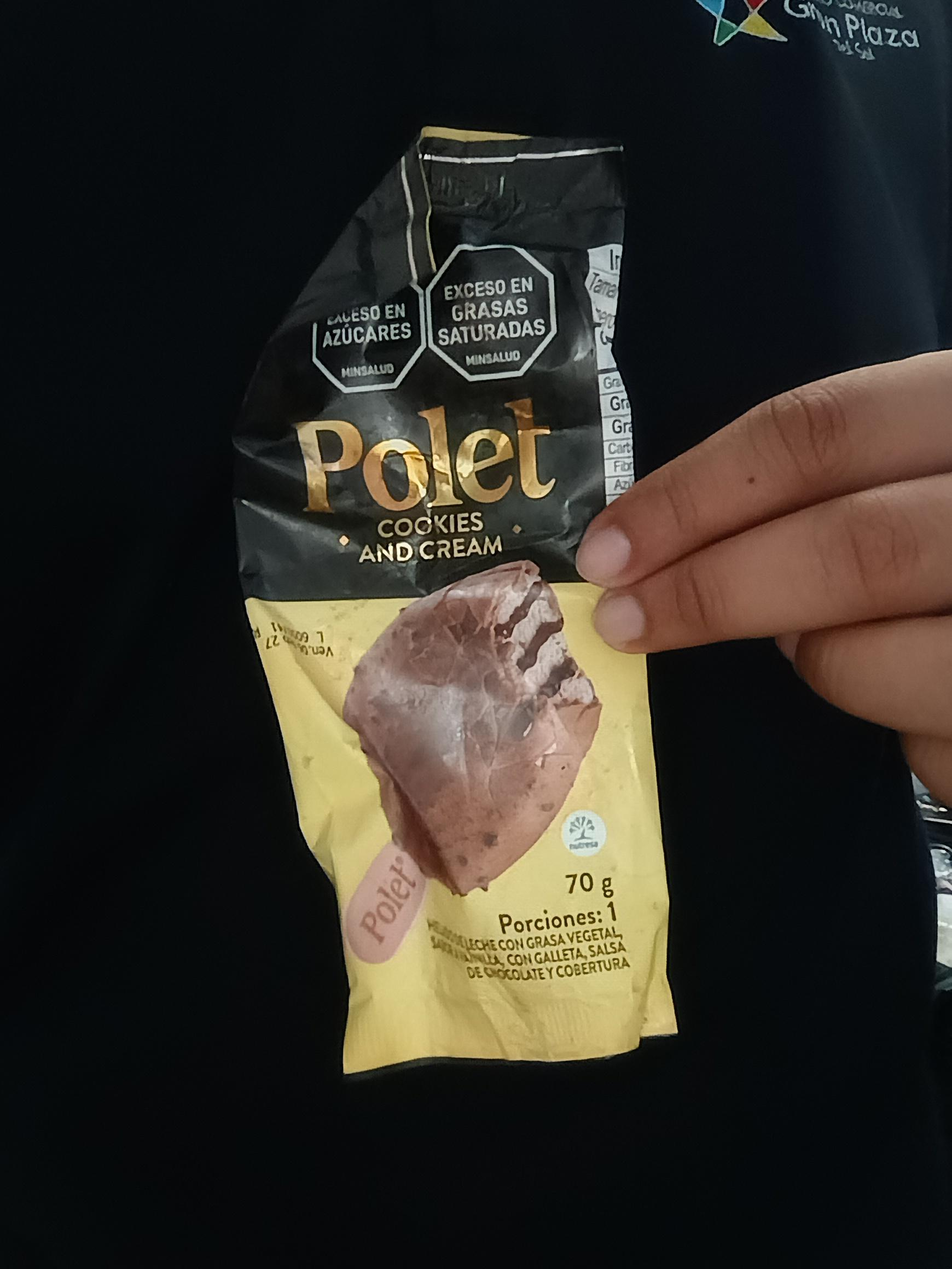Ordinario: (227, 126, 678, 1073)
